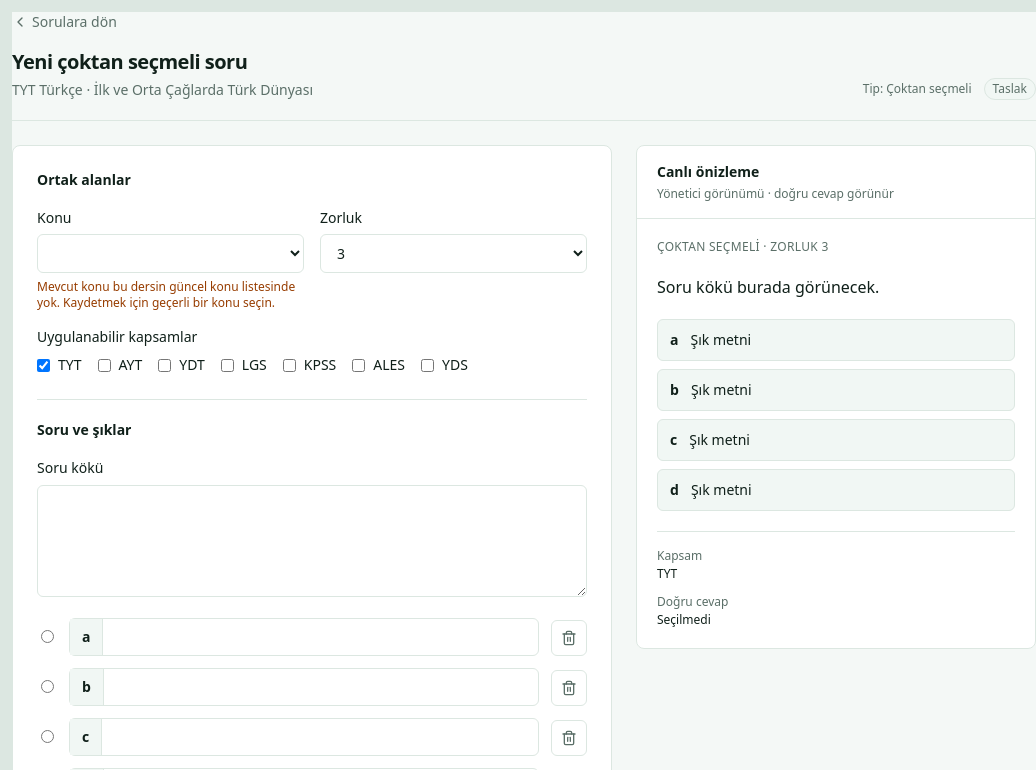
Test: multiple choice create editor › renders real topics, four stable options and a live preview
Expected: the heading "Yeni çoktan seçmeli soru" is shown, left=12, top=48, right=247, bottom=74
Expected: the field named "a şıkkı metni" is shown, left=104, top=619, right=538, bottom=655
Type "Önizlenen soru" into the text box labelled "Soru kökü" at (312, 540), box left=37, top=484, right=587, bottom=596
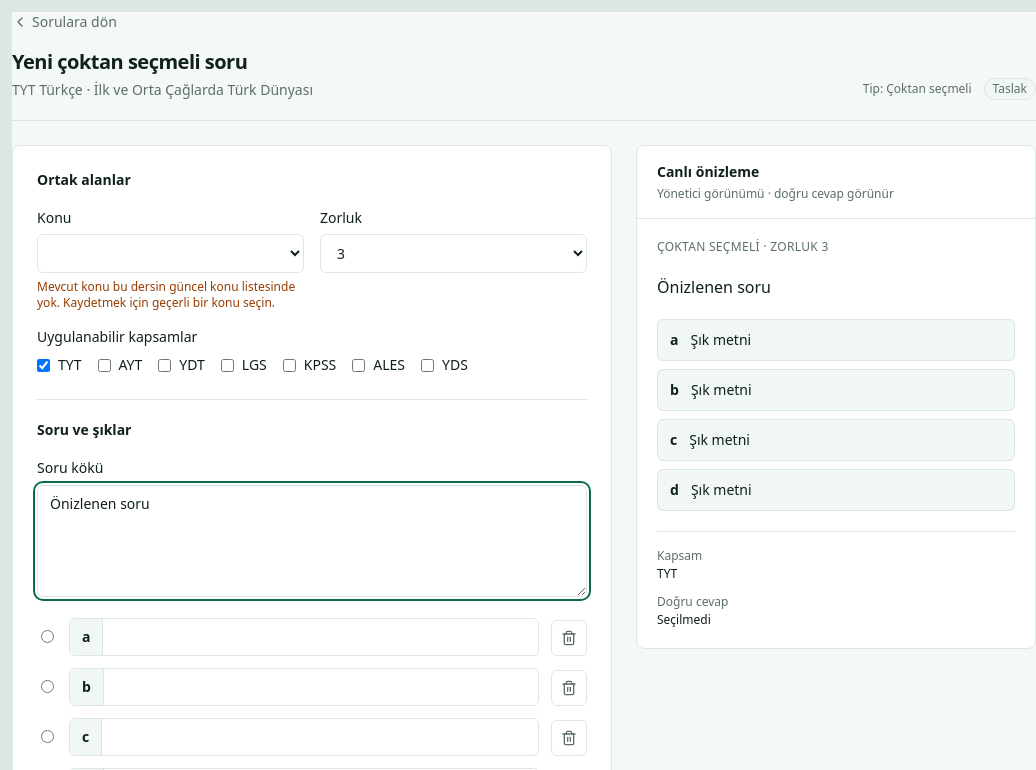
Expected: the element labelled "Canlı önizleme" shows "Önizlenen soru", left=657, top=276, right=771, bottom=298
